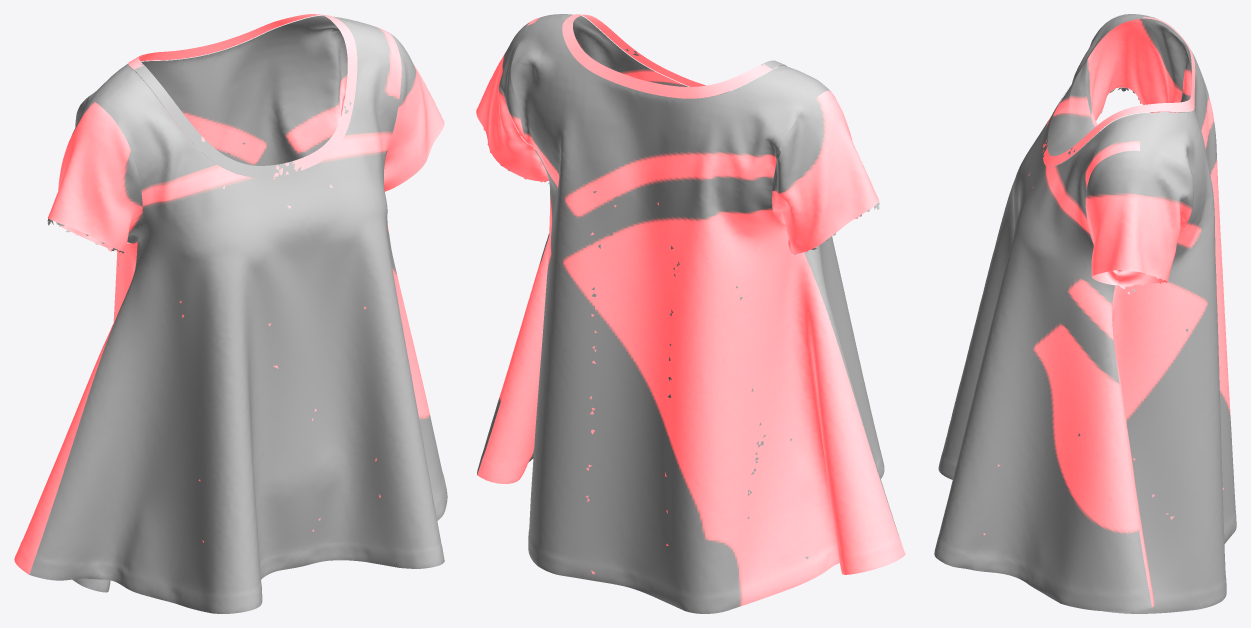
The model's file is ladies_normal_top.glb.
The picture shows the model from 3 angles, left to right: view 1: azimuth 30°, elevation 25°; view 2: azimuth 150°, elevation 25°; view 3: azimuth 270°, elevation 25°; orthographic projection. The views are drawn at different scales.
Visible parts, largest first — view 1: all; view 2: all; view 3: all.
Part boxes in pixels (<box>): all: <box>14,14,447,613</box>; all: <box>476,14,905,613</box>; all: <box>934,14,1236,613</box>.
Bounding box in the file's own units: 0.5432 × 0.6427 × 0.351.
